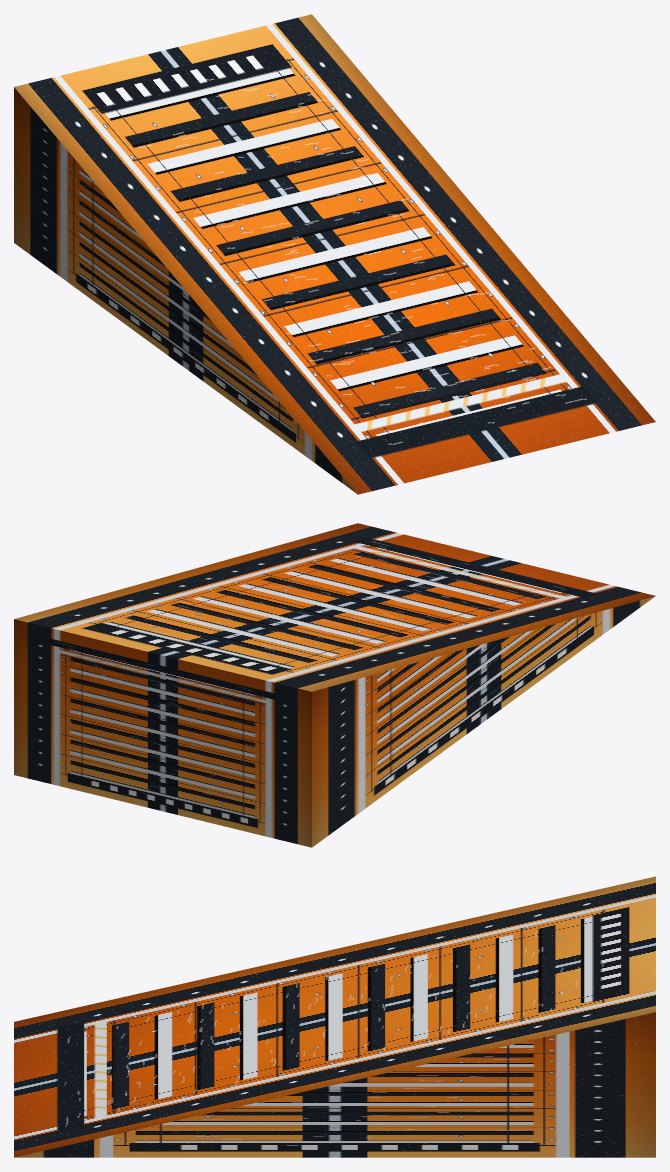
Rendered from Ramp_01b.glb.
3 renders of one model, top to bottom at view 1: azimuth 30°, elevation 25°; view 2: azimuth 150°, elevation 25°; view 3: azimuth 270°, elevation 25°, orthographic. The views are drawn at different scales.
Visible parts, largest first — view 1: Ramp_01; view 2: Ramp_01; view 3: Ramp_01.
Part boxes in pixels (x1,y1,x2,y2): Ramp_01: (14,14,655,494); Ramp_01: (14,523,655,847); Ramp_01: (14,876,655,1157).
Size of the model in its own units: 4 by 2 by 8.
Materials: 1 (1 with a texture image).
